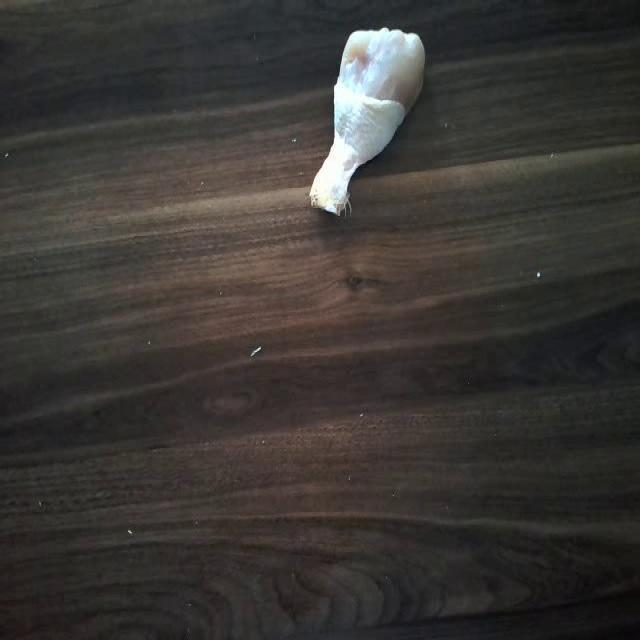leg: (317, 25, 435, 234)
